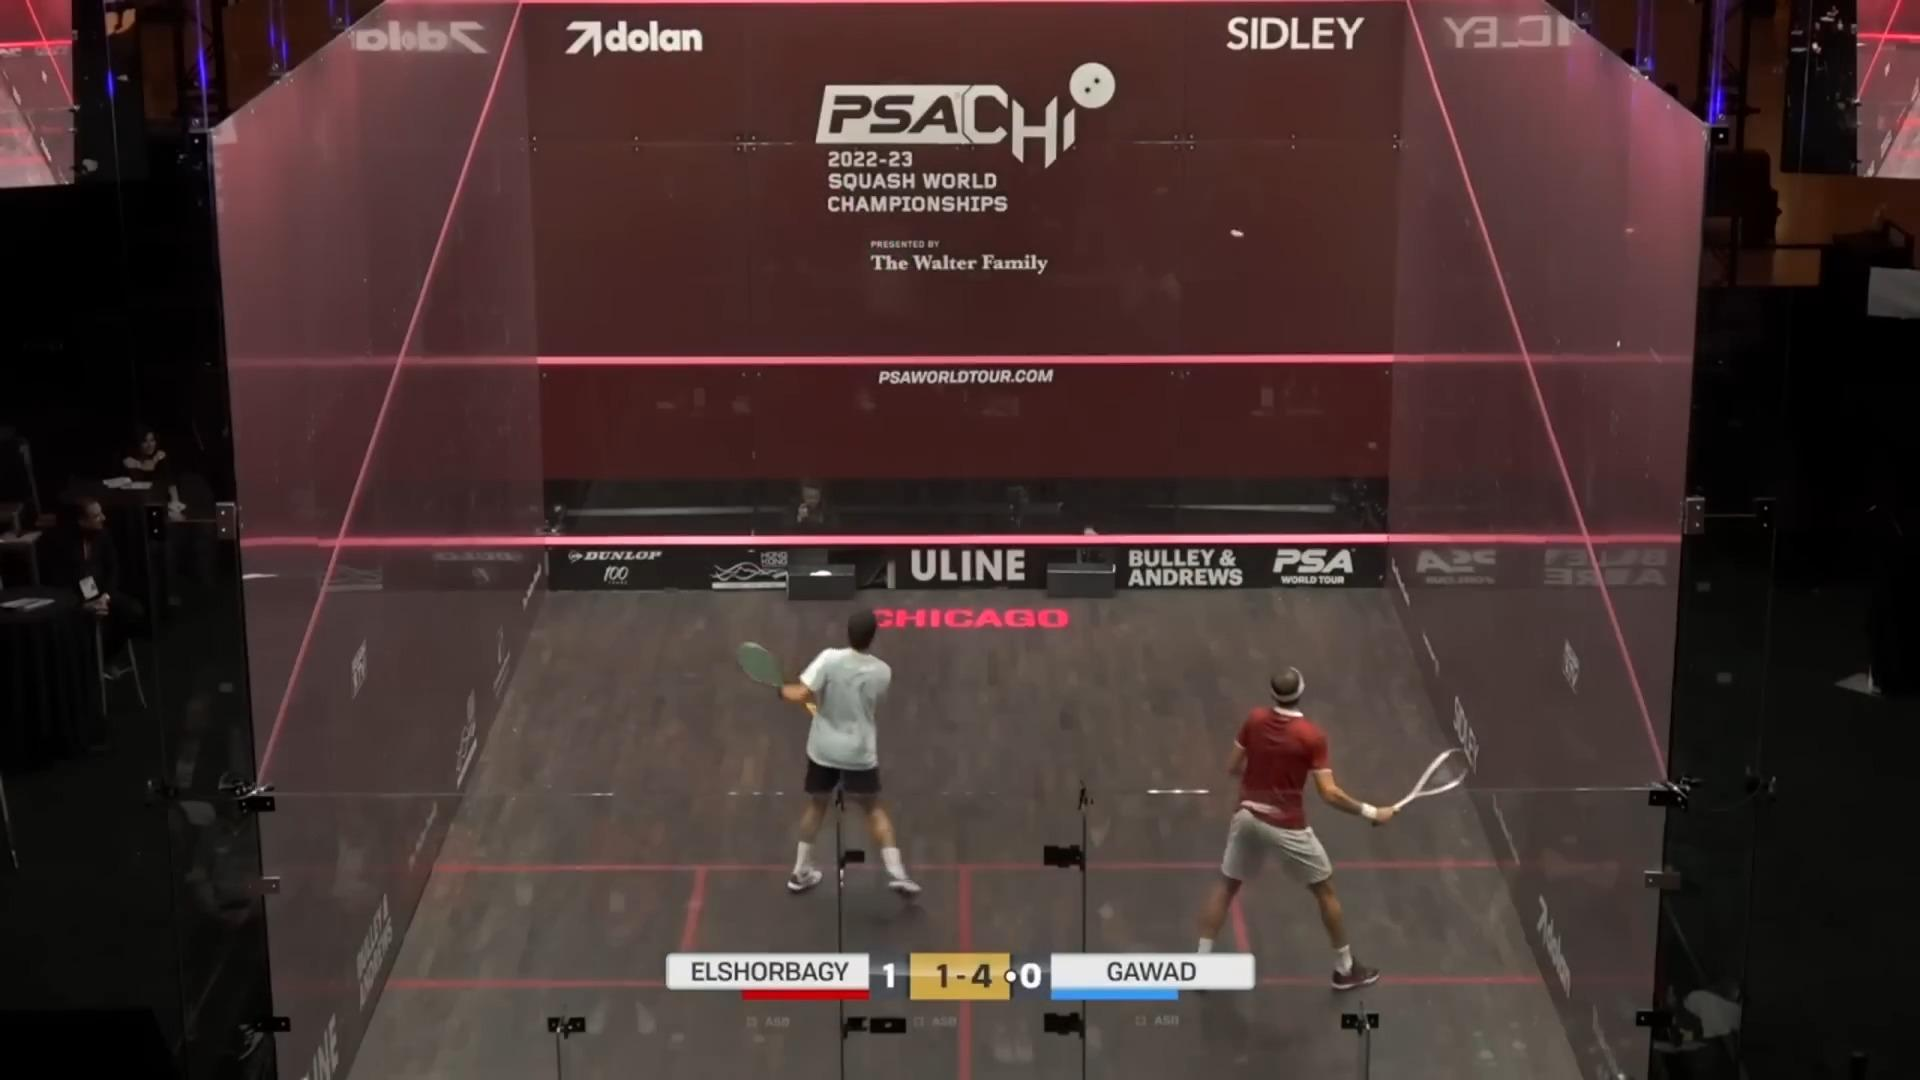Squash-Ball: (1213, 214, 1258, 255)
